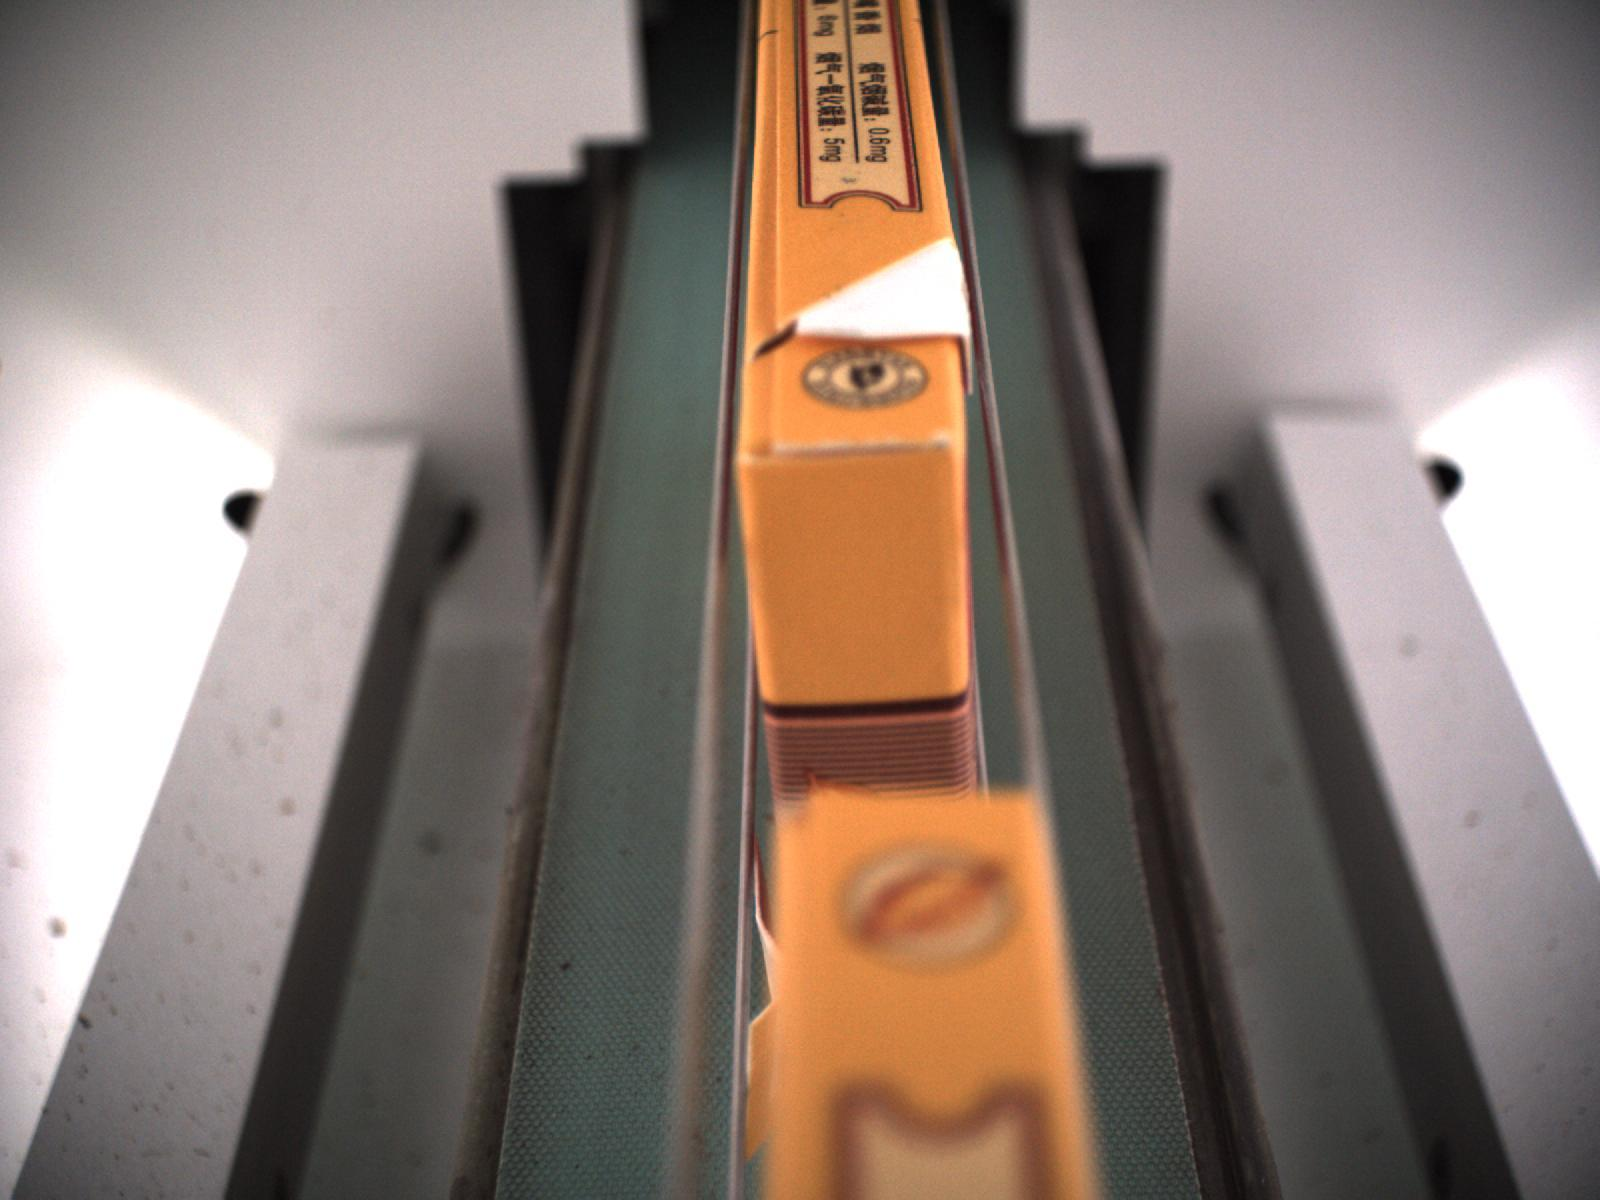frame: (789, 237, 975, 348)
headDamage_upper_2: (741, 344, 965, 465)
skewed_upper_2: (746, 21, 804, 355)
